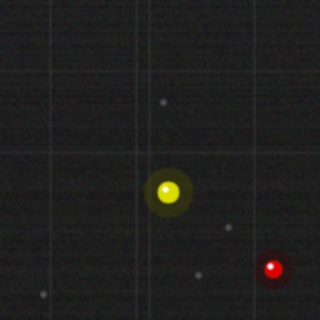red_fault: (262, 258, 284, 280)
yellow_warning: (155, 179, 181, 205)
